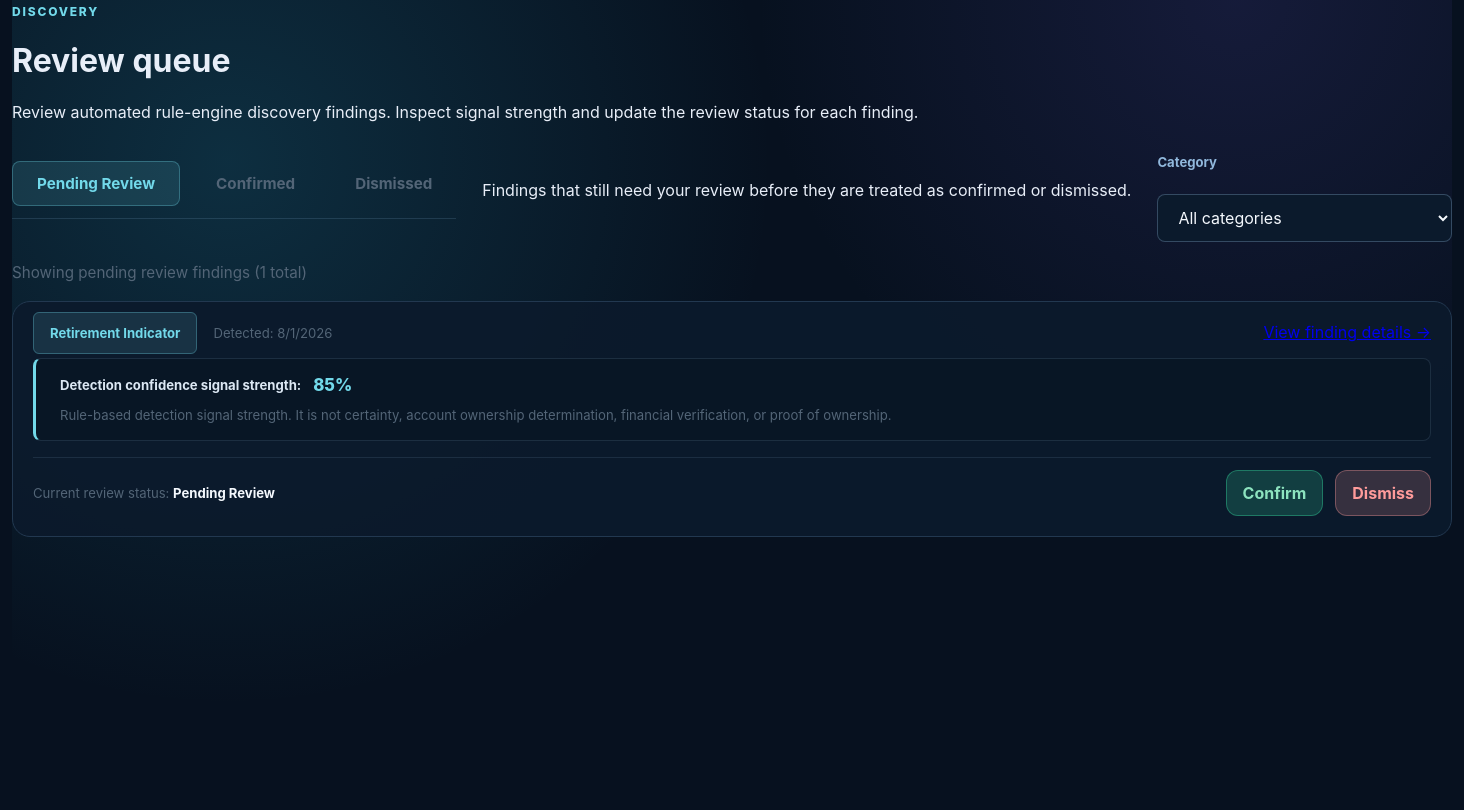
Test case: ReviewQueuePage › allows clearing the category filter from the page
This screenshot has width=1464, height=810.
Expected: the text "Retirement Indicator" is shown, [33,312,198,354]
Select "Insurance Indicator" in the dropdown labelled "Category": (1305, 218) [1157,194,1452,242]
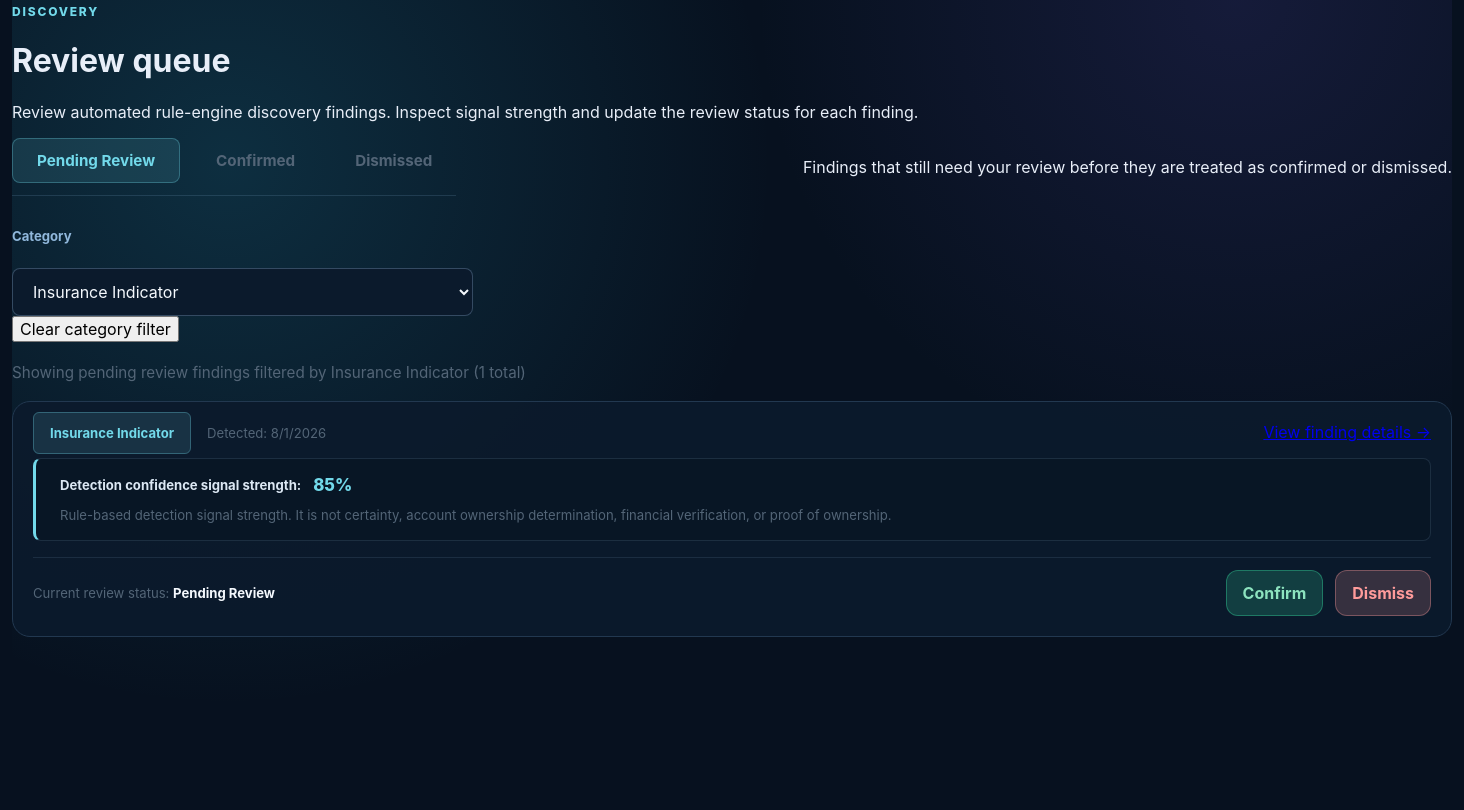
Now the text "Insurance Indicator" is shown, box [33,412,191,454]
Click the button "Clear category filter": (95, 329) [12,316,179,342]
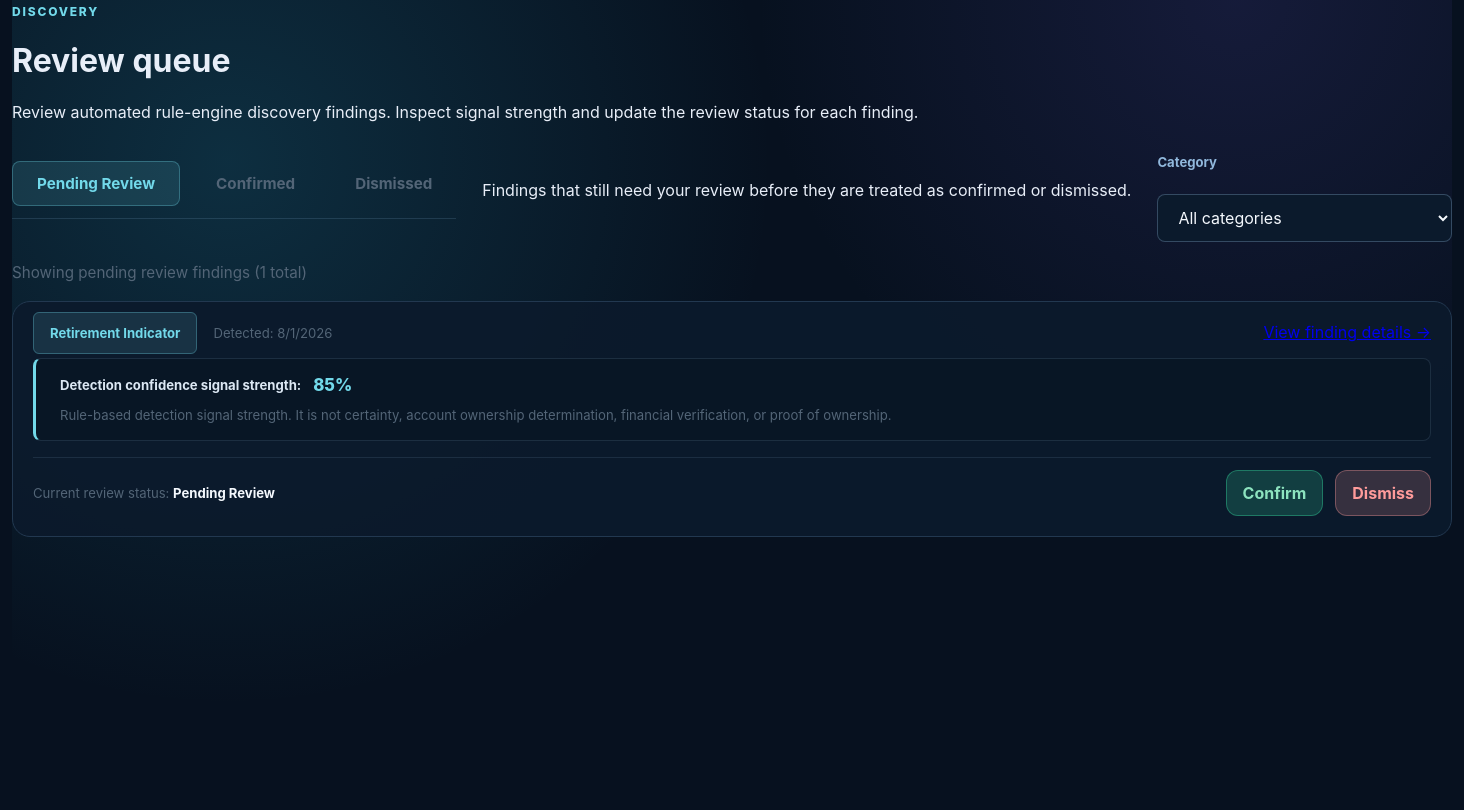
Now the text "Retirement Indicator" is shown, box [33,312,198,354]
